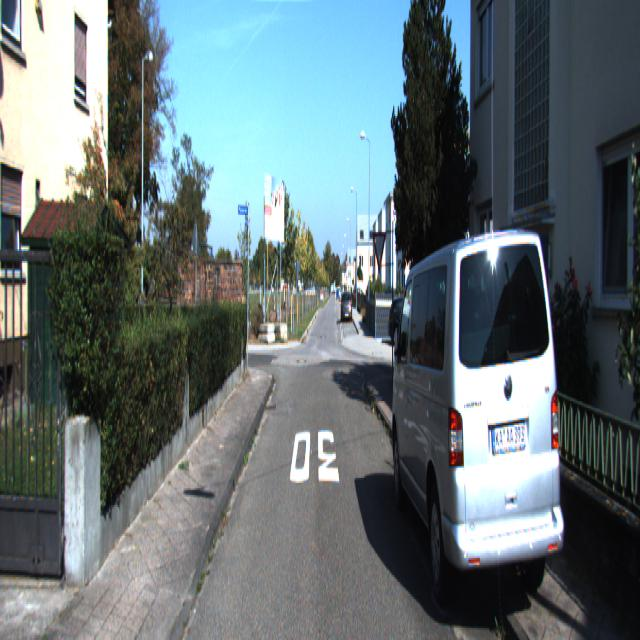Car: (390, 214, 564, 638), (342, 289, 352, 322)
